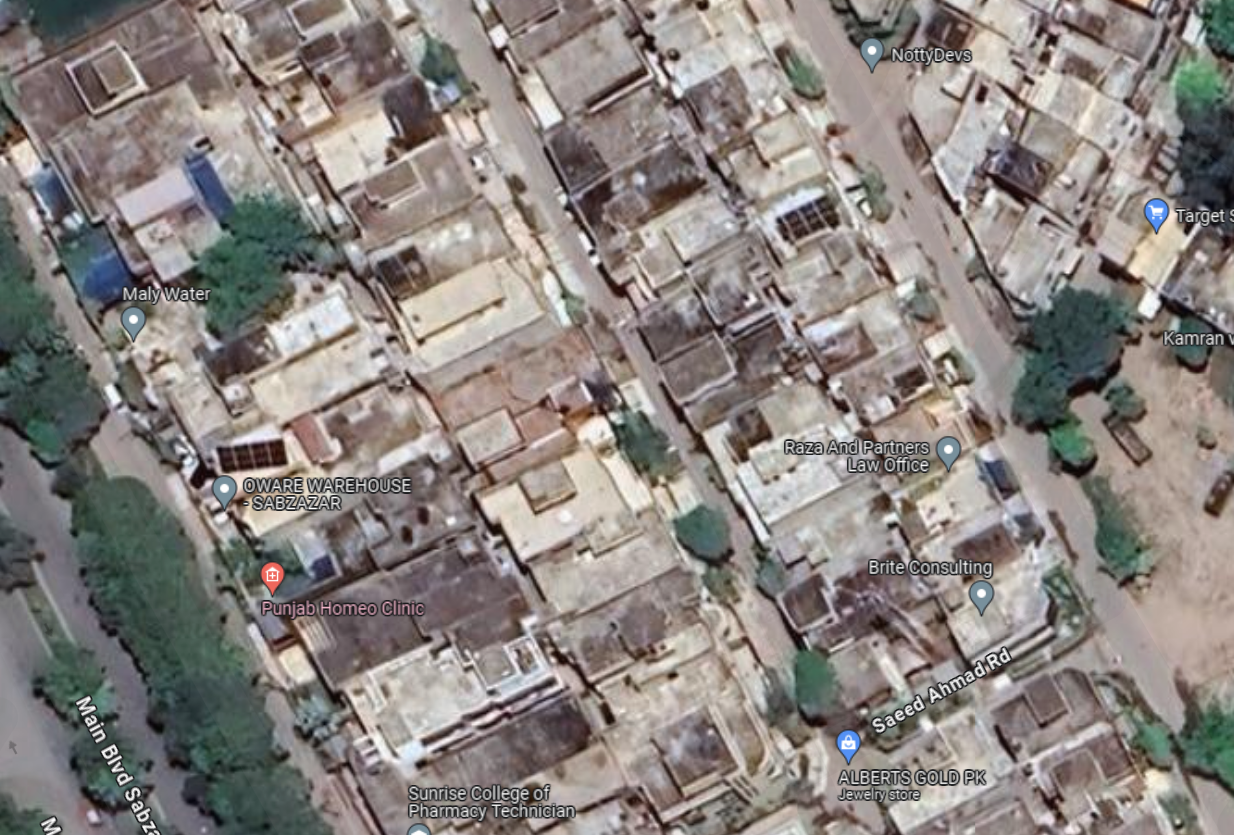solar-panel: (207, 438, 291, 471), (785, 201, 846, 238)
